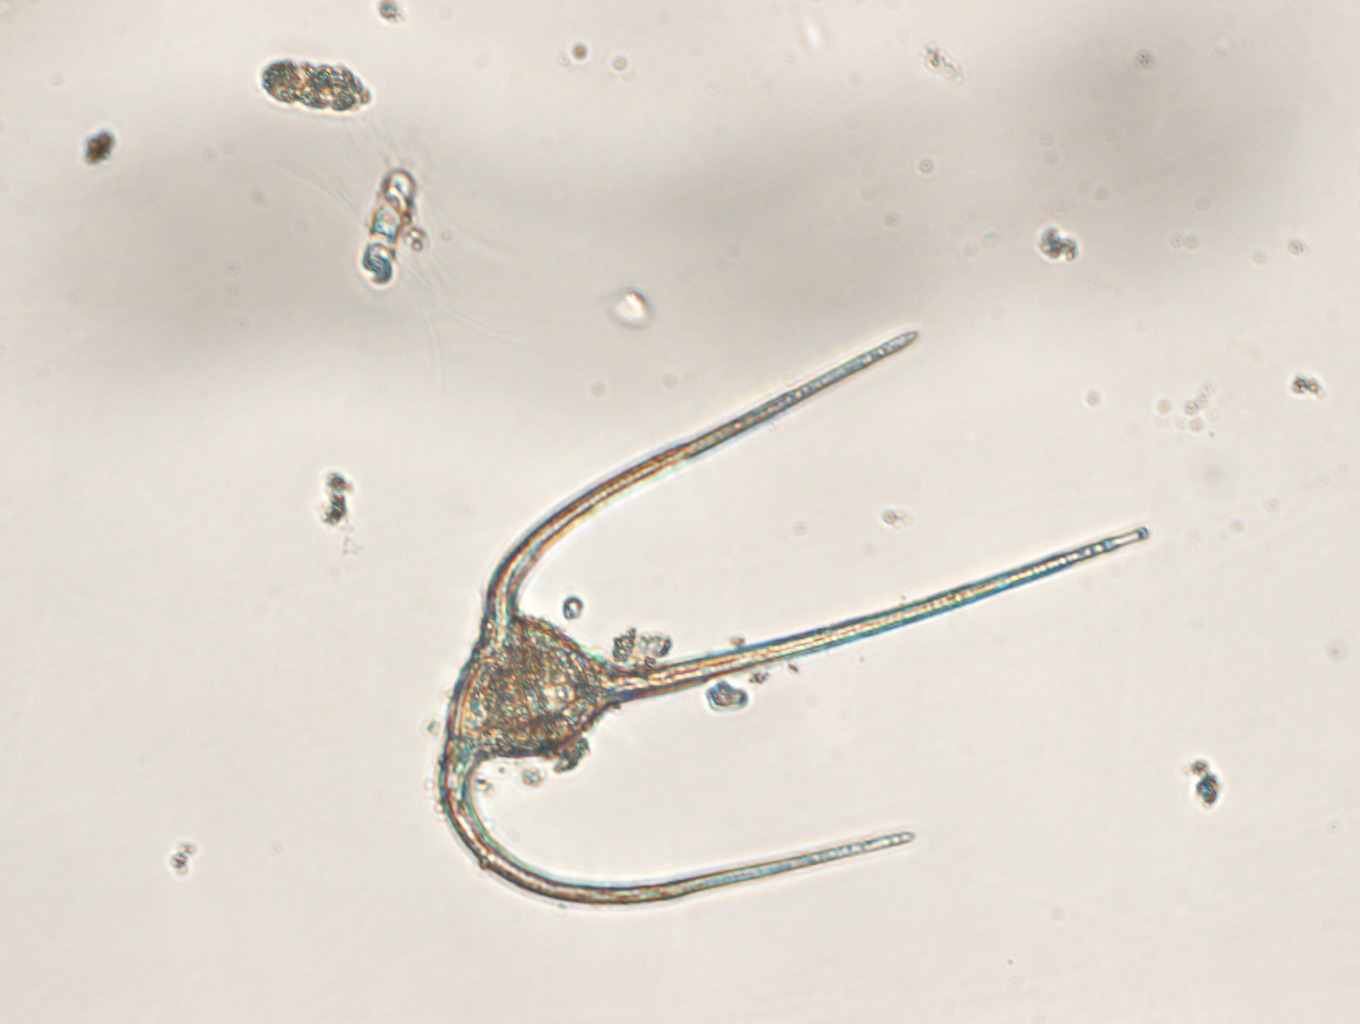ceratium trichoceros: (436, 322, 1159, 912)
